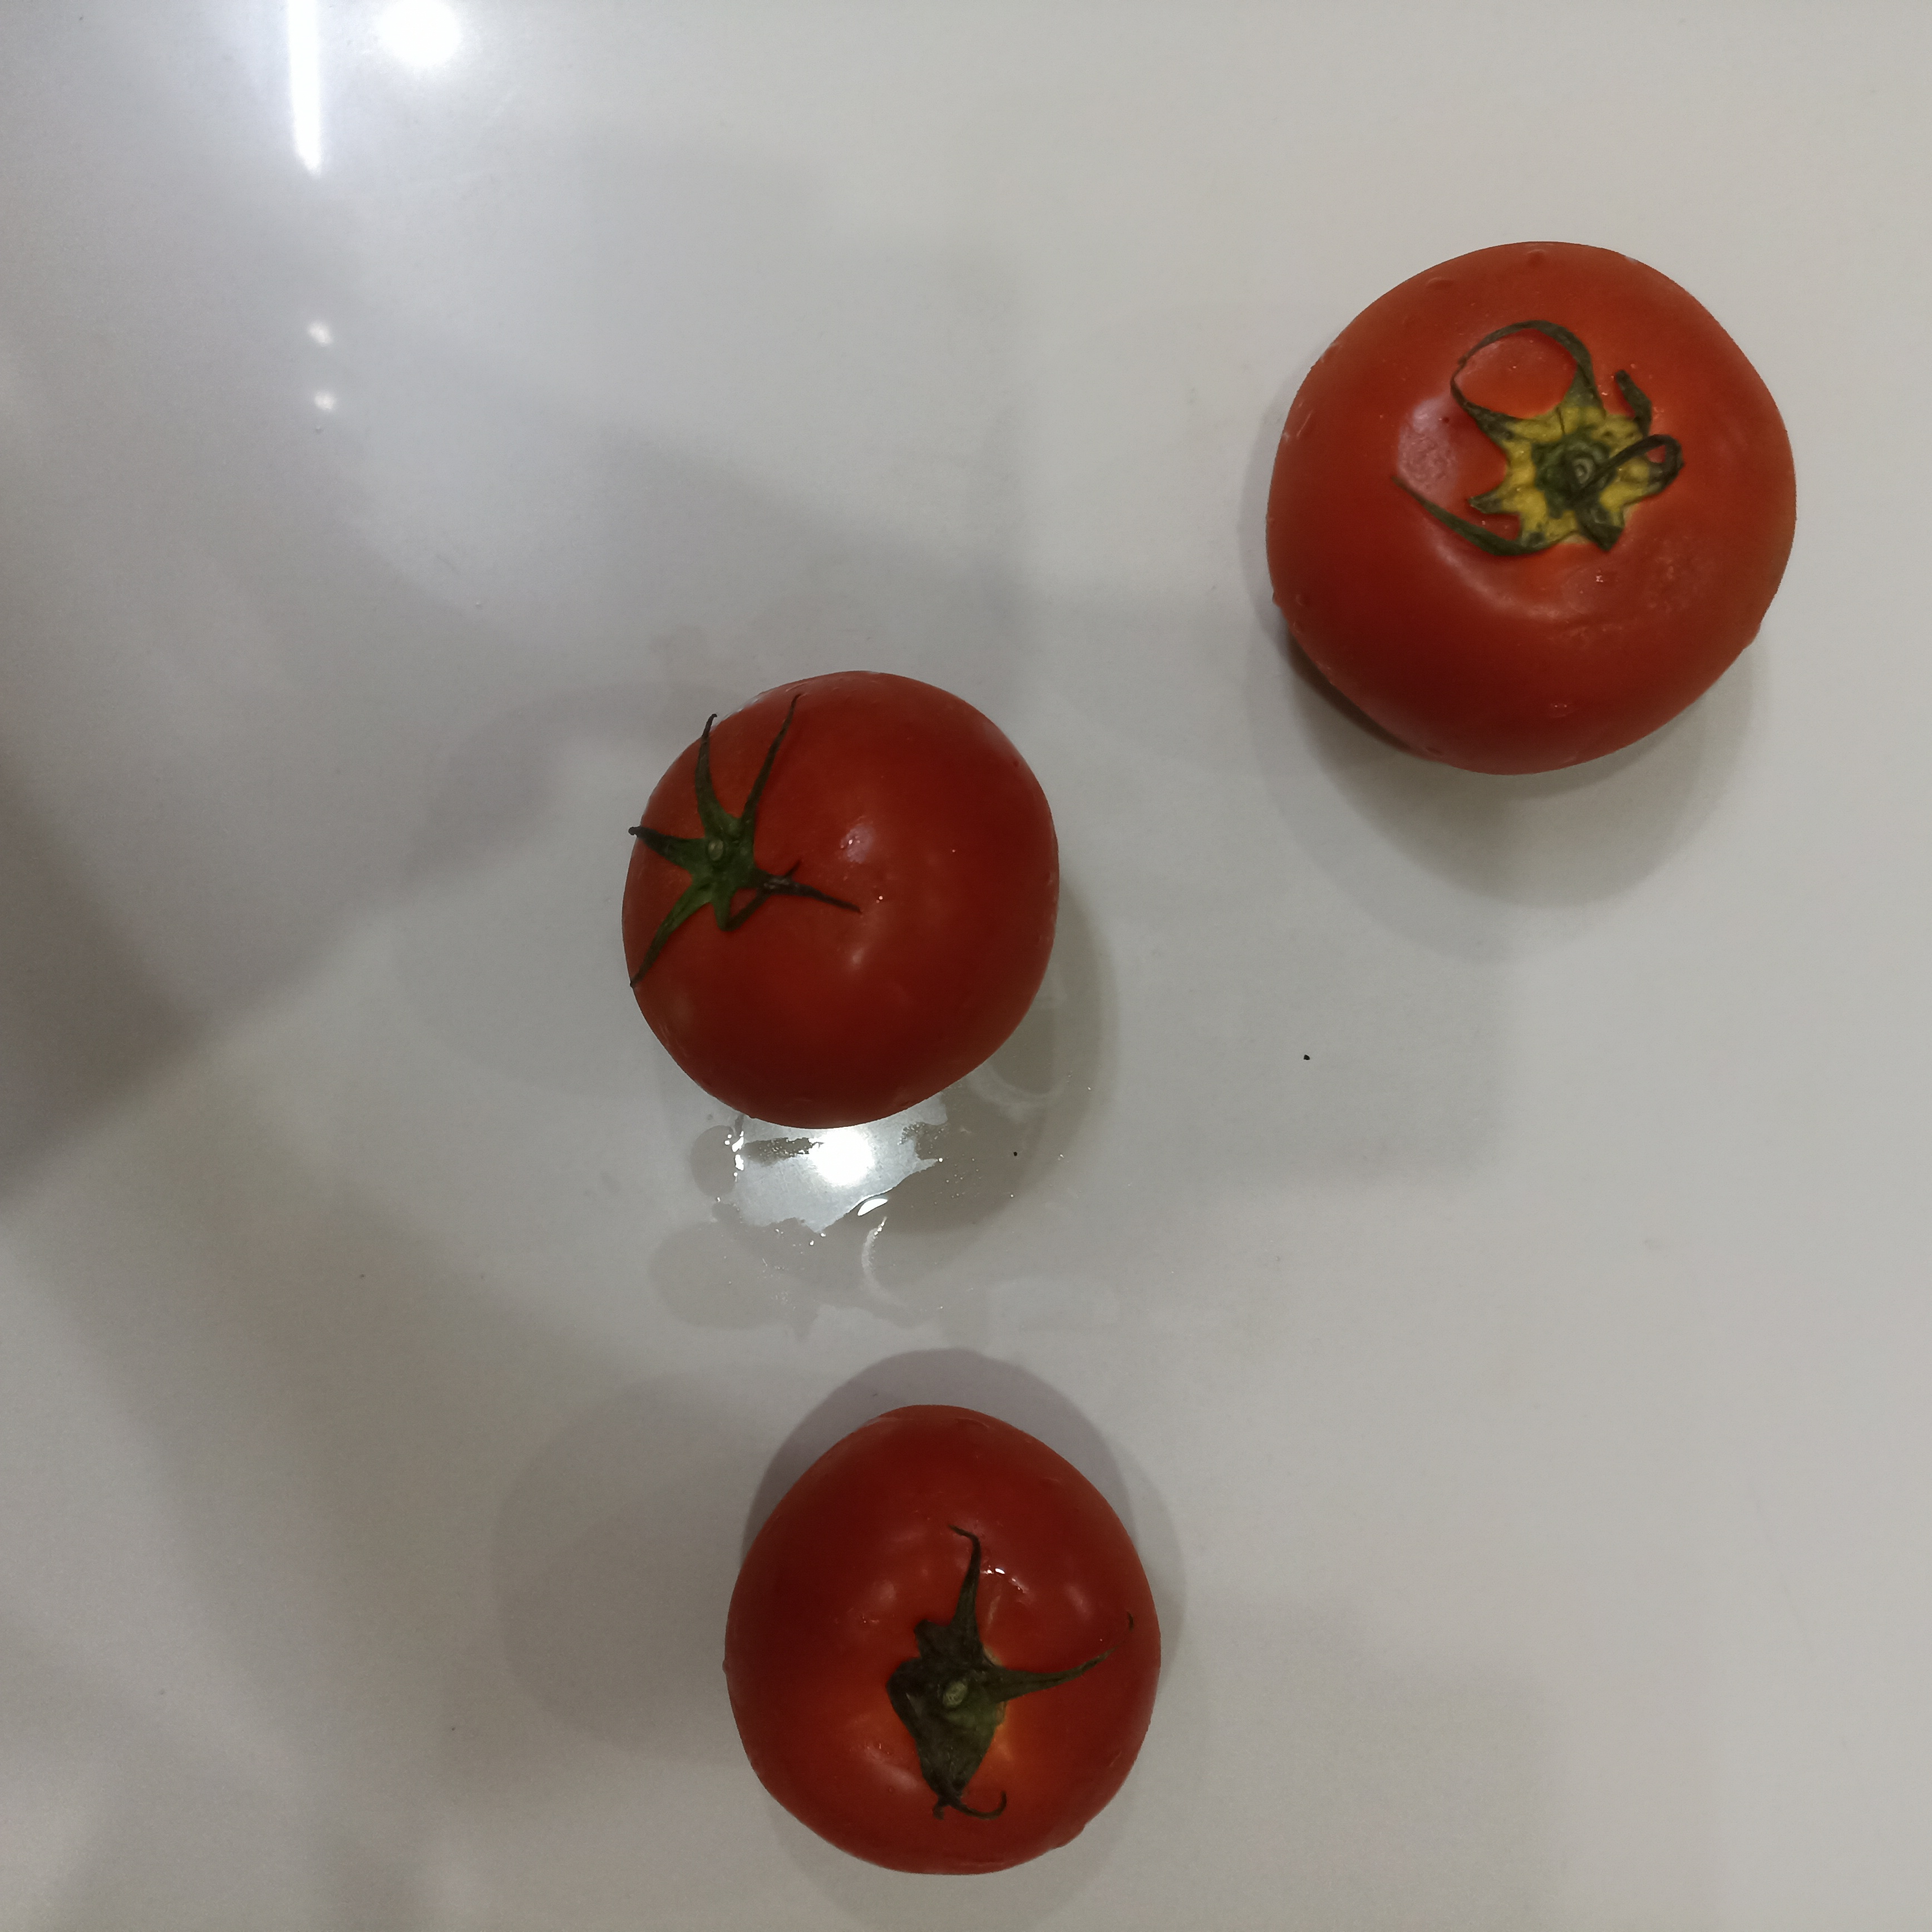Ca chua: (1265, 239, 1798, 787), (720, 1407, 1162, 1879), (617, 671, 1056, 1123)
